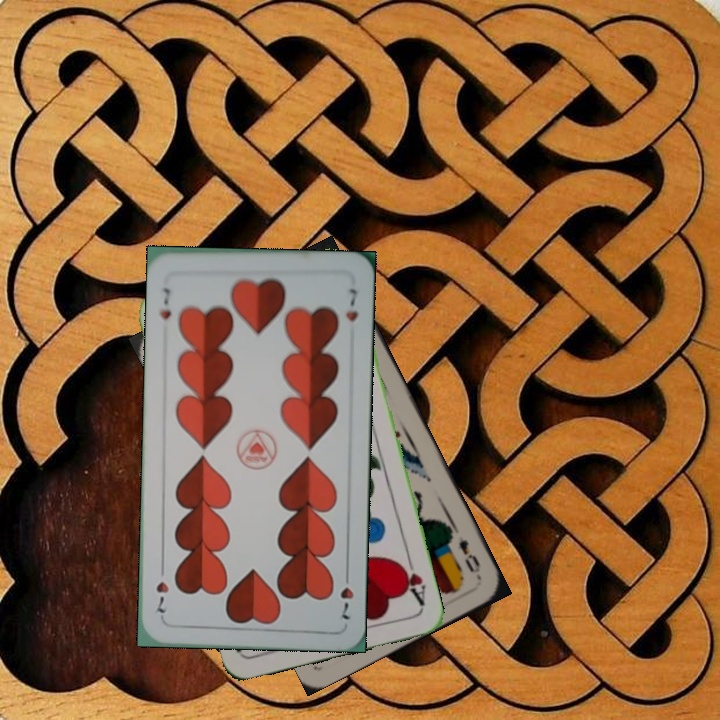EO: (446, 528, 483, 581)
H7: (336, 566, 356, 623), (156, 283, 173, 322)
HA: (395, 551, 428, 609)
